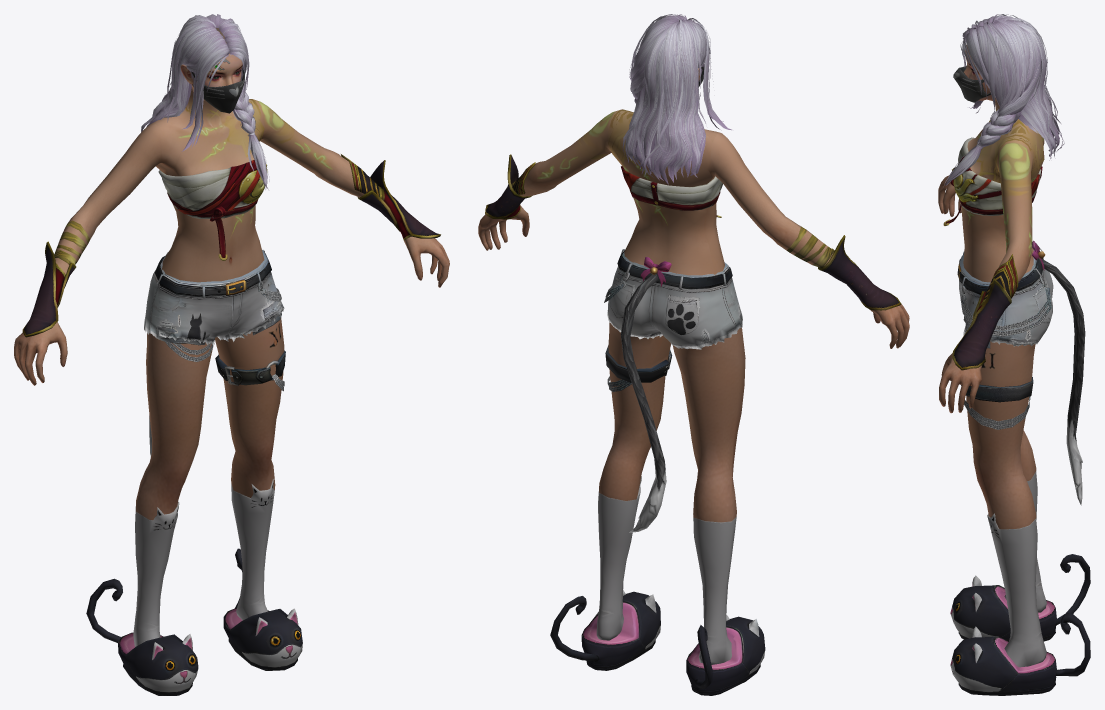
File: mira.glb
3 renders of one model, left to right at view 1: azimuth 30°, elevation 25°; view 2: azimuth 150°, elevation 25°; view 3: azimuth 270°, elevation 25°, orthographic.
Visible parts, largest first — view 1: mira; view 2: mira; view 3: mira.
Boxes of the visible parts, bbox=[...] form: mira: bbox=[14, 14, 449, 695]; mira: bbox=[478, 14, 909, 695]; mira: bbox=[938, 14, 1090, 695].
Size of the model in its own units: 0.6016 by 0.8814 by 0.1889.
Materials: 8 (8 with a texture image).
